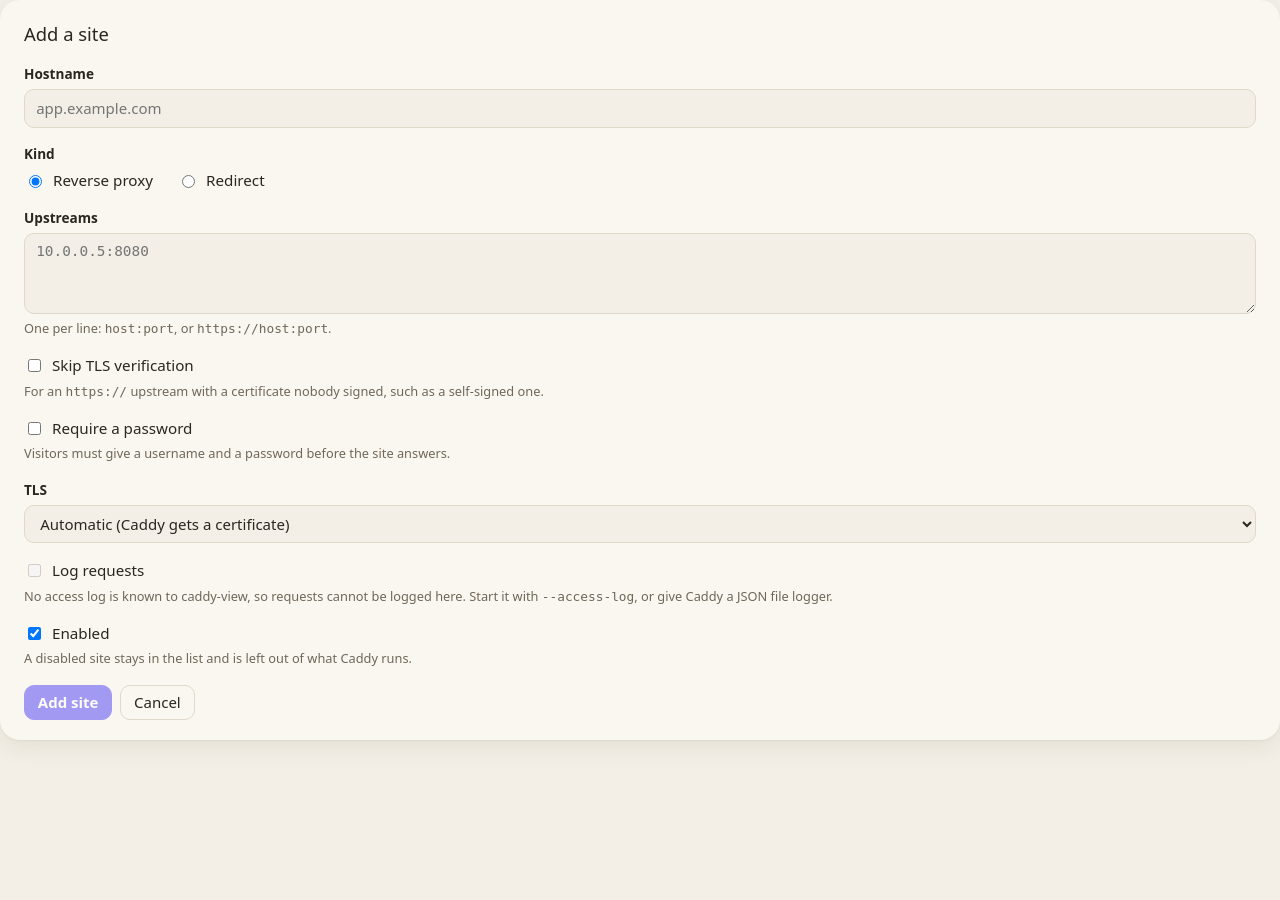
Test: SiteWizard for a new site › shows the errors of the fields that were touched, and not of the others
The image size is (1280, 900).
Type "not a host" into the field labelled "Hostname" at (640, 108), box left=24, top=89, right=1256, bottom=128
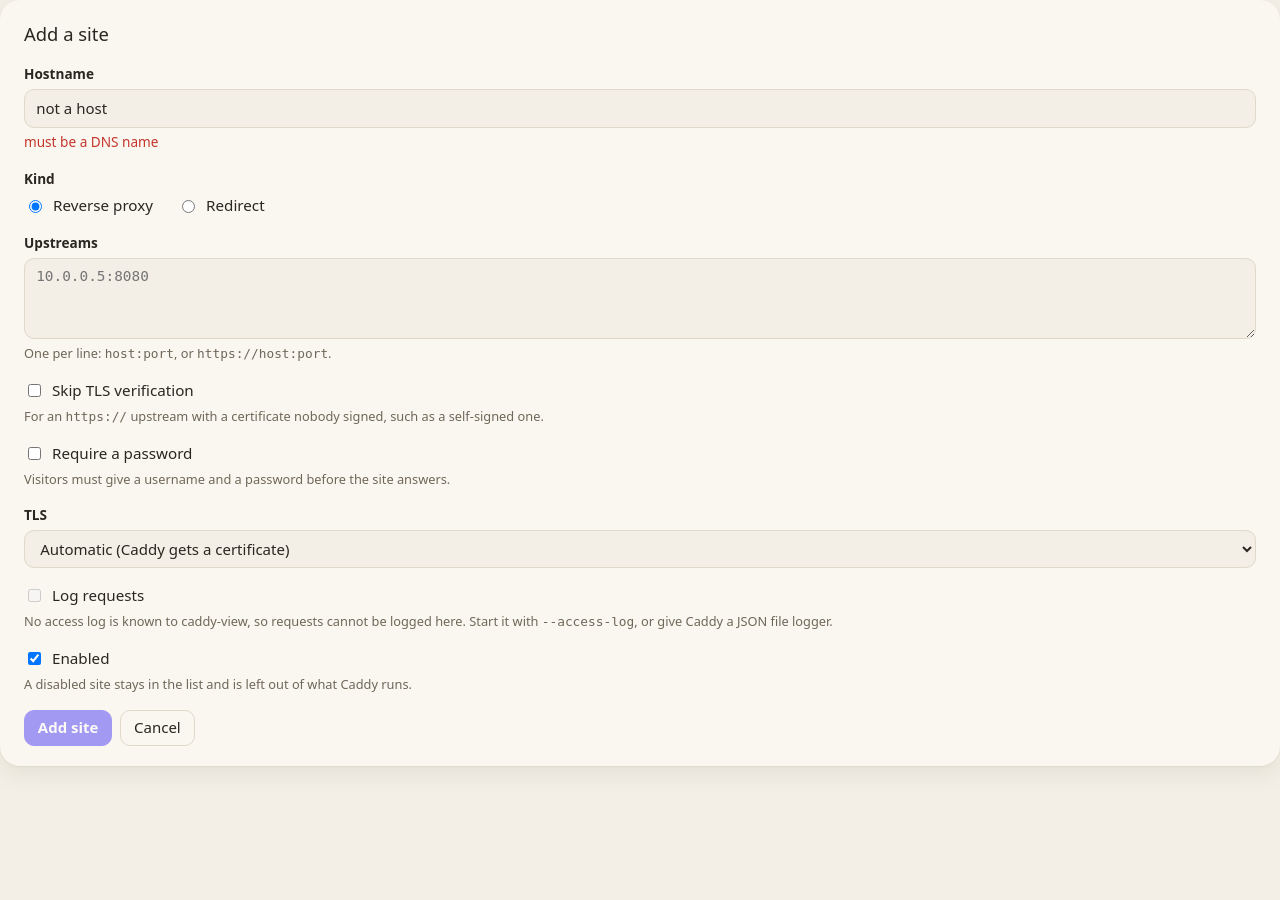
Expected: the button "Add site" is disabled, left=24, top=710, right=112, bottom=746
Now the text "must be a DNS name" is shown, box left=24, top=132, right=158, bottom=152
